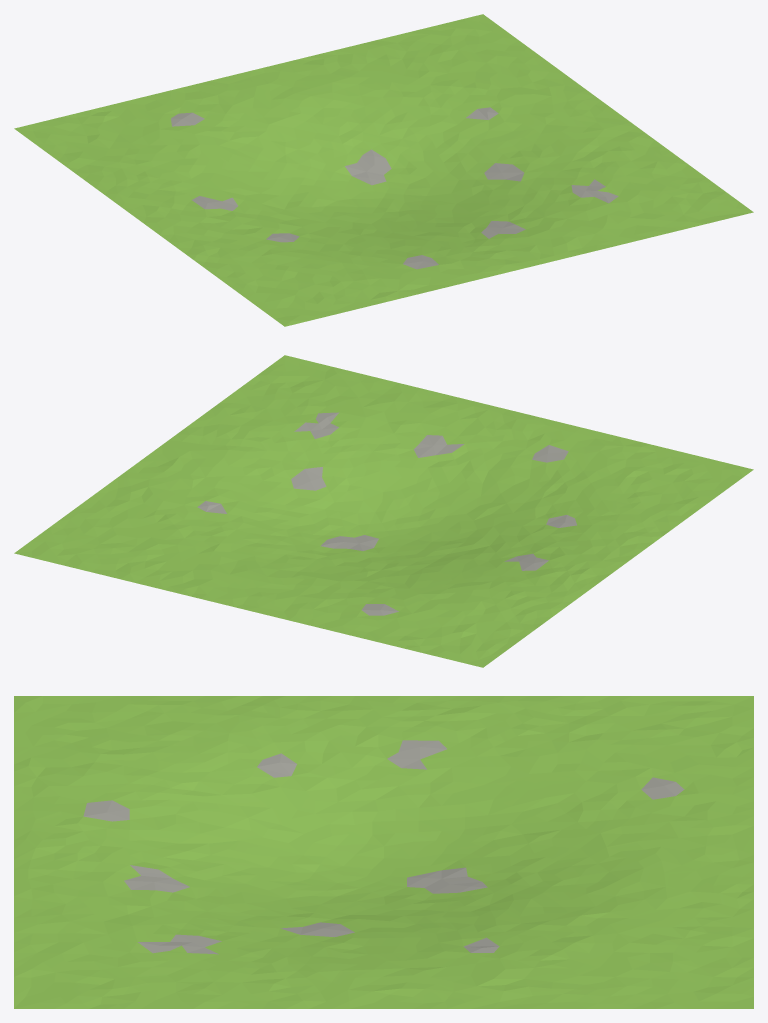
The model's file is terrain_l_c_01.glb.
3 renders of one model, top to bottom at view 1: azimuth 30°, elevation 25°; view 2: azimuth 150°, elevation 25°; view 3: azimuth 270°, elevation 25°, orthographic. The views are drawn at different scales.
Parts seen in each view (by area): view 1: CPT_Terrain_L_c_01; view 2: CPT_Terrain_L_c_01; view 3: CPT_Terrain_L_c_01.
Boxes of the visible parts, x1=… form: CPT_Terrain_L_c_01: x1=14, y1=14, x2=753, y2=326; CPT_Terrain_L_c_01: x1=14, y1=355, x2=753, y2=667; CPT_Terrain_L_c_01: x1=14, y1=696, x2=753, y2=1008.
Size of the model in its own units: 100 by 4.46 by 100.
1 material, 1 textured.
